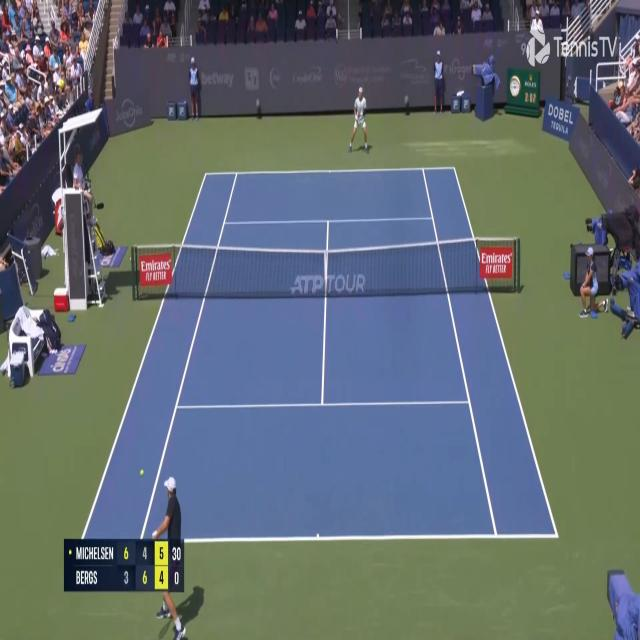tennis-player: (152, 476, 195, 640), (348, 83, 371, 154)
